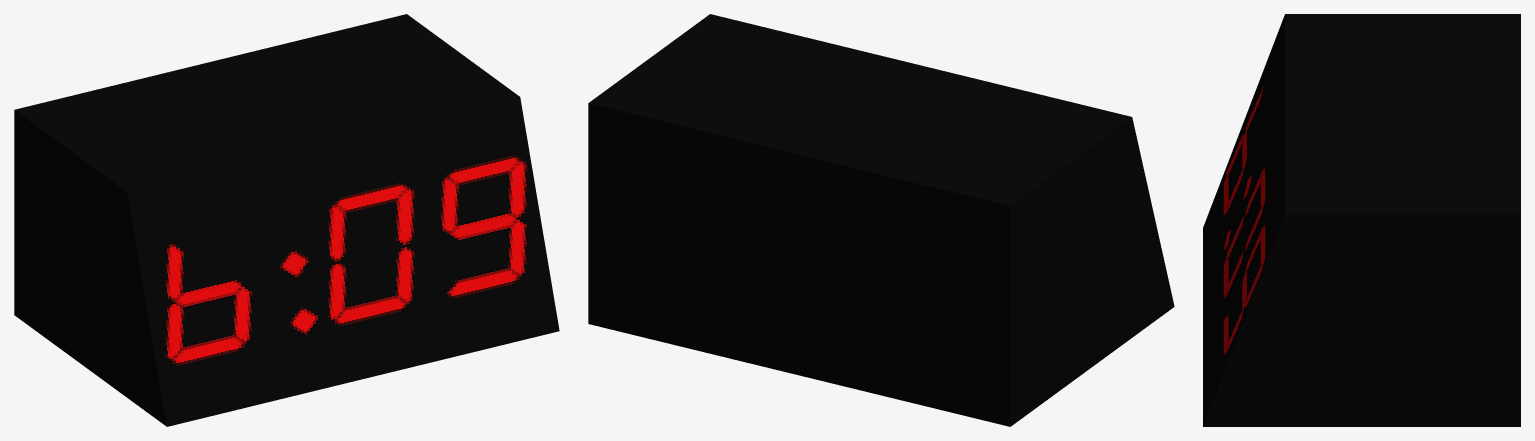
Rendered from alarm clock.glb.
3 renders of one model, left to right at view 1: azimuth 30°, elevation 25°; view 2: azimuth 150°, elevation 25°; view 3: azimuth 270°, elevation 25°, orthographic. The views are drawn at different scales.
Visible parts, largest first — view 1: Cube; view 2: Cube; view 3: Cube.
Boxes of the visible parts, x1,y1,x2,y2 form: Cube: [14, 14, 559, 426]; Cube: [588, 14, 1174, 426]; Cube: [1203, 14, 1520, 426].
Bounding box in the file's own units: 0.4 × 0.2 × 0.2696.
2 materials, 1 textured.
